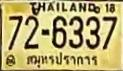2: (24, 16, 38, 48)
3: (68, 15, 83, 48), (85, 15, 99, 48)
6: (51, 15, 66, 48)
7: (102, 15, 116, 49), (8, 15, 22, 49)
SPK: (25, 52, 99, 69)
